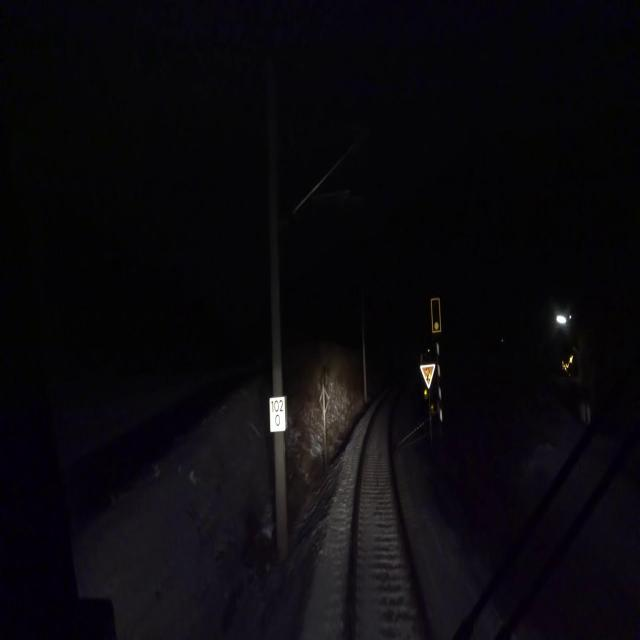rail-track: (353, 364, 424, 639)
